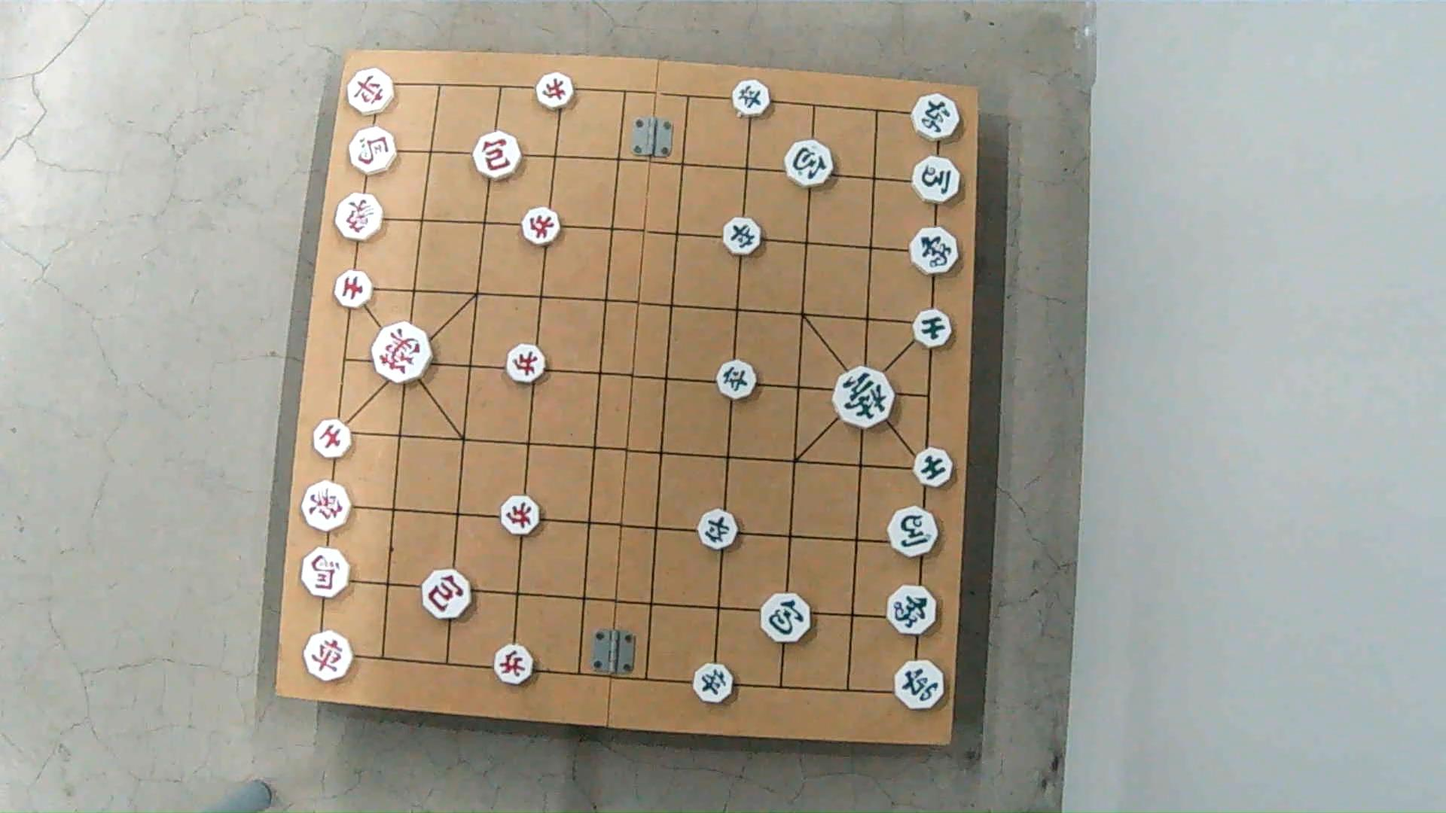cha_green: (892, 657, 949, 710), (911, 94, 961, 139)
cha_red: (306, 635, 356, 682), (348, 72, 398, 114)
jol_green: (695, 507, 741, 548), (694, 665, 737, 702), (716, 362, 758, 398), (731, 83, 773, 117), (721, 220, 762, 254)
jol_red: (498, 500, 541, 537), (493, 646, 535, 683), (504, 346, 548, 380), (520, 206, 560, 242), (534, 75, 576, 108)
ma_green: (886, 510, 941, 556), (913, 159, 962, 203)
ma_red: (302, 551, 353, 598), (349, 129, 400, 172)
po_green: (761, 593, 813, 643), (783, 144, 834, 186)
po_red: (419, 572, 471, 618), (471, 136, 521, 177)
sa_green: (911, 308, 953, 346), (913, 449, 955, 485)
sa_red: (330, 269, 377, 309), (310, 416, 356, 455)
sang_green: (886, 587, 941, 635), (908, 230, 959, 273)
sang_red: (300, 483, 352, 529), (335, 196, 386, 242)
wang_green: (832, 367, 898, 429)
wang_red: (372, 319, 433, 382)
